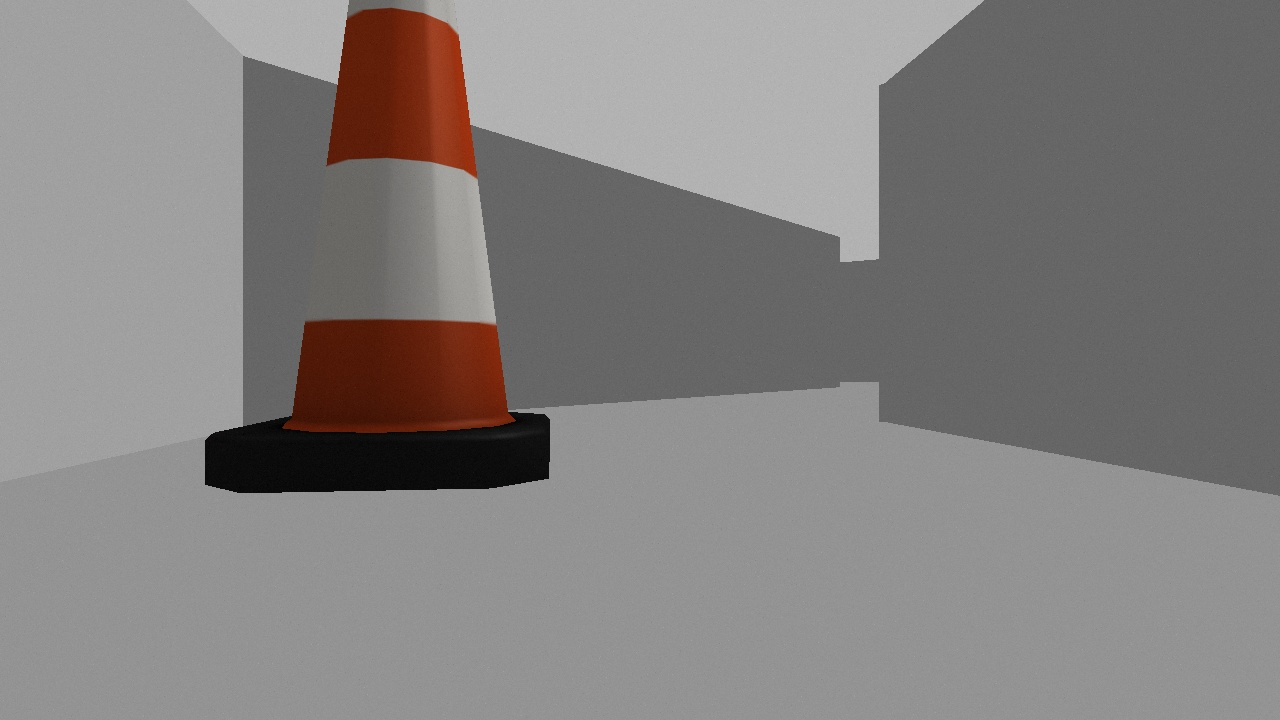barricade: (203, 1, 550, 492)
